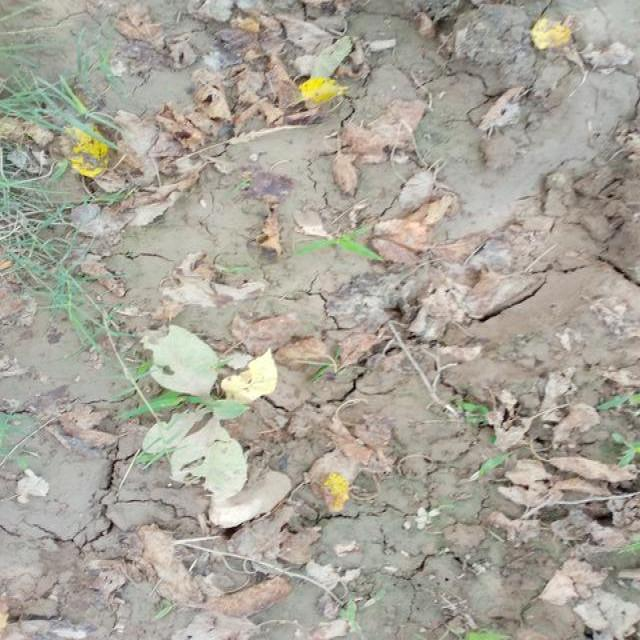crop: (132, 327, 290, 516)
